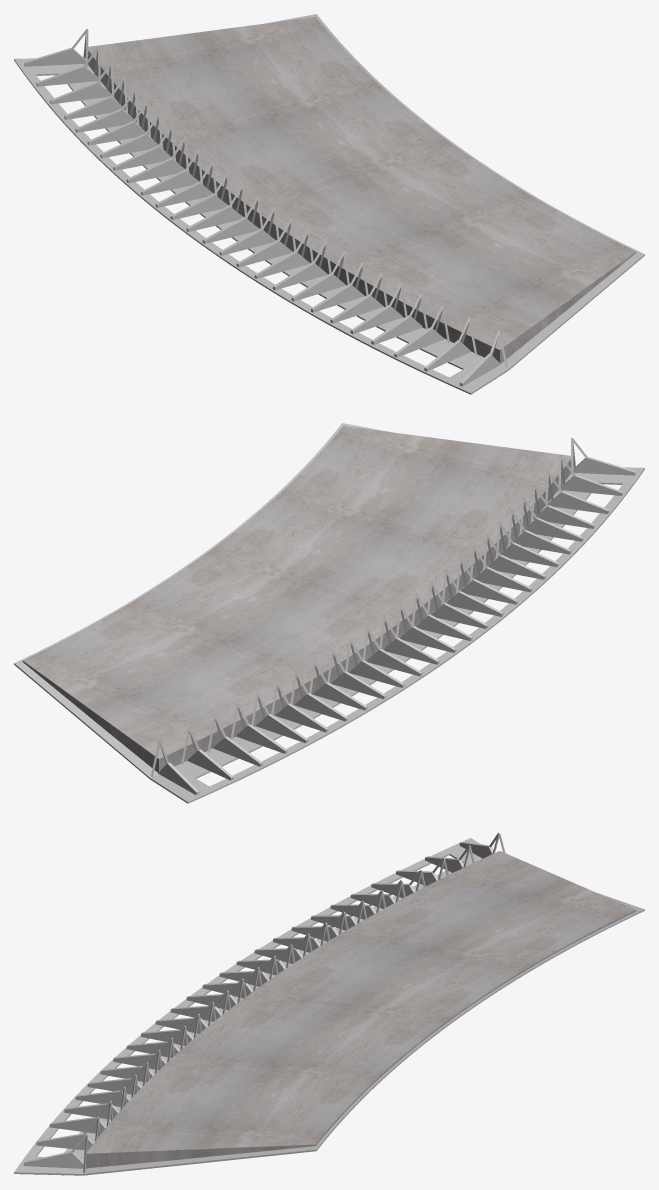
Rendered from dach.obj.
The picture shows the model from 3 angles, top to bottom: view 1: azimuth 30°, elevation 25°; view 2: azimuth 150°, elevation 25°; view 3: azimuth 330°, elevation 25°; orthographic projection.
Visible parts, largest first — view 1: copertura02, copertura01, sporgenza26, sporgenza25, sporgenza24, sporgenza23, sporgenza22, sporgenza18, sporgenza20, sporgenza21, sporgenza19, sporgenza17 (+15 smaller); view 2: copertura02, copertura01, sporgenza01, sporgenza02, sporgenza03, sporgenza04, sporgenza05, sporgenza06, sporgenza07, sporgenza09, sporgenza08, sporgenza10 (+14 smaller); view 3: copertura02, copertura01, sporgenza01, sporgenza02, sporgenza03, sporgenza04, sporgenza05, sporgenza06, sporgenza07.
Part boxes in pixels (box(x1,y1,x2,y2)): copertura02: box(88, 17, 636, 363); copertura01: box(14, 14, 644, 394); sporgenza26: box(24, 47, 85, 66); sporgenza25: box(36, 65, 98, 86); sporgenza24: box(50, 81, 111, 104); sporgenza23: box(64, 96, 125, 119); sporgenza22: box(75, 108, 136, 132); sporgenza18: box(126, 158, 186, 183); sporgenza20: box(100, 133, 160, 158); sporgenza21: box(87, 121, 148, 145); sporgenza19: box(113, 145, 173, 170); sporgenza17: box(141, 170, 198, 195); copertura02: box(22, 426, 571, 773); copertura01: box(14, 423, 644, 803); sporgenza01: box(573, 456, 635, 475); sporgenza02: box(560, 475, 622, 495); sporgenza03: box(548, 491, 609, 514); sporgenza04: box(533, 505, 594, 528); sporgenza05: box(522, 517, 583, 541); sporgenza06: box(510, 530, 571, 554); sporgenza07: box(498, 542, 558, 567); sporgenza09: box(472, 567, 532, 592); sporgenza08: box(485, 554, 545, 579); sporgenza10: box(460, 579, 517, 604); copertura02: box(86, 851, 636, 1168); copertura01: box(14, 838, 644, 1175); sporgenza01: box(23, 1151, 87, 1168); sporgenza02: box(36, 1133, 93, 1150); sporgenza03: box(49, 1117, 106, 1134); sporgenza04: box(64, 1103, 118, 1119); sporgenza05: box(75, 1090, 130, 1106); sporgenza06: box(87, 1078, 141, 1094); sporgenza07: box(100, 1066, 153, 1082).
Size of the model in its own units: 61.55 by 12.69 by 170.
5 materials, 1 textured.
